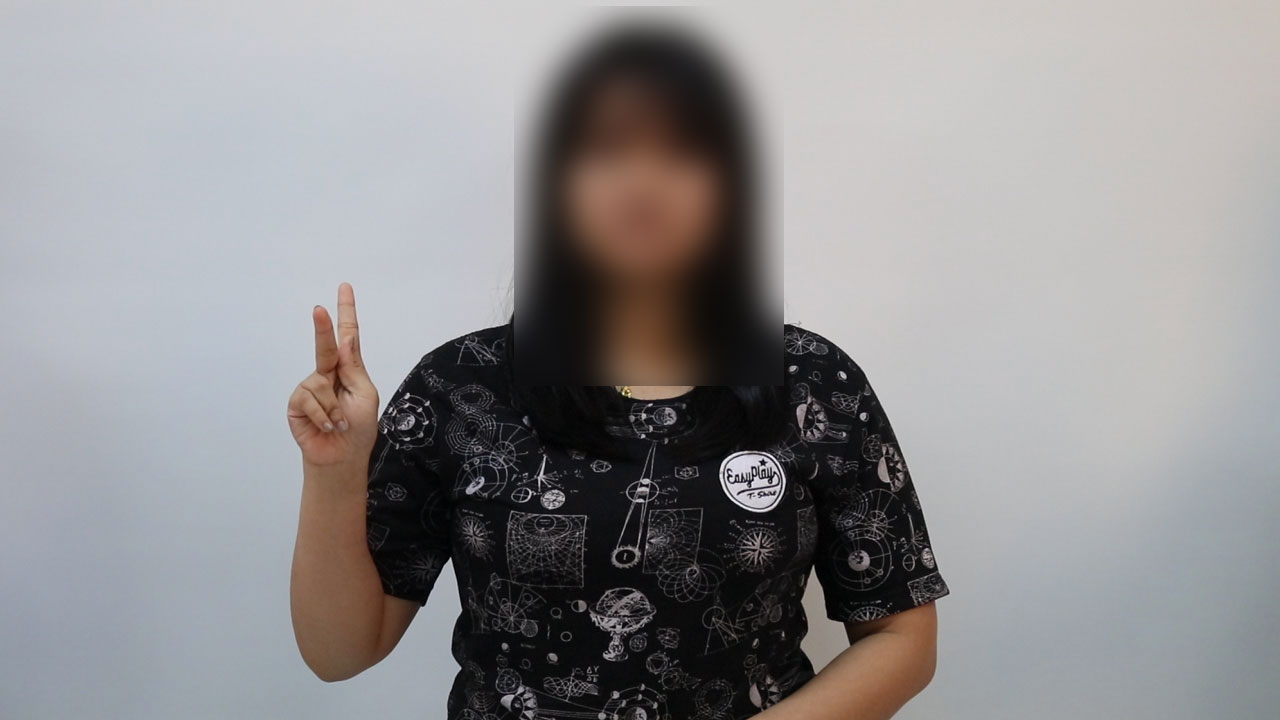ko: (228, 262, 438, 482)
